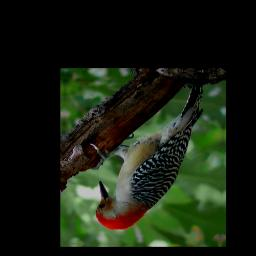Woodpecker: (87, 78, 208, 235)
